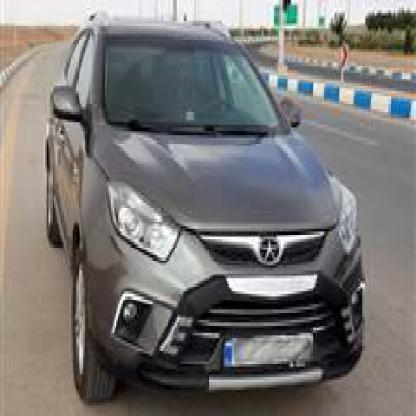car: (40, 2, 366, 414)
